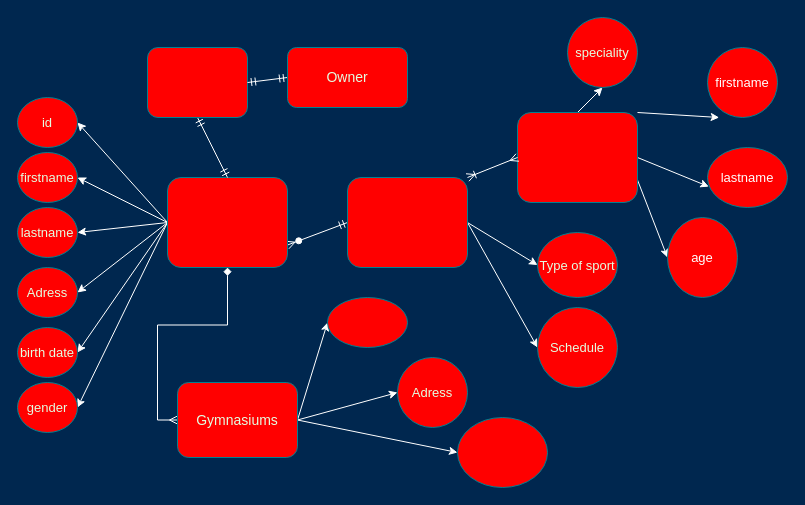
Image size: 805x505. Some labels were removed from this diagram. The shapes that lost their labels are listed below. From the top down, each one's centre as x and y in pixels, then its label:
[197,82]: Employee
[577,157]: Coachs
[227,222]: member
[407,222]: Sessions
[367,322]: name
[502,452]: Telephone Number
